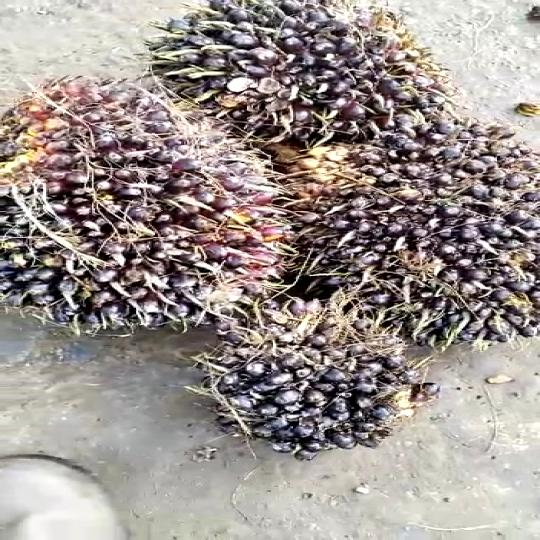mentah: (0, 66, 275, 326), (272, 116, 540, 343), (135, 0, 436, 139), (181, 309, 458, 451)
